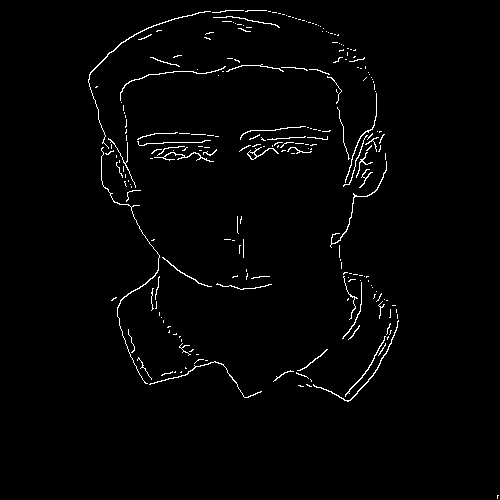mask: (122, 166, 355, 291)
